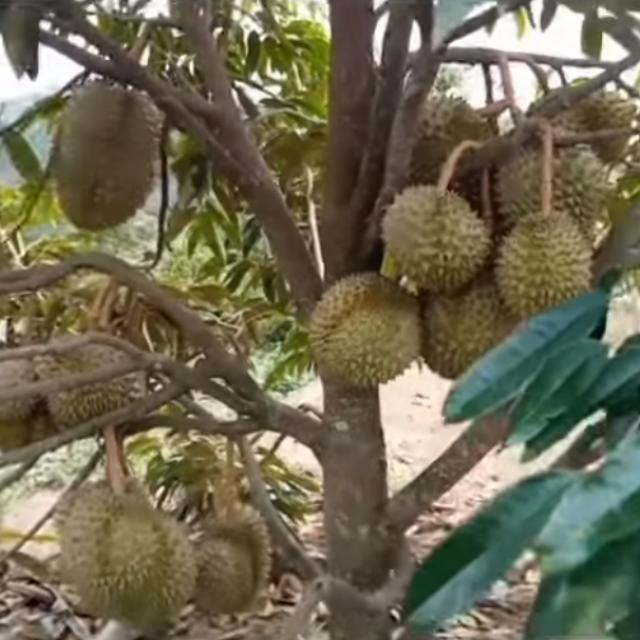mature: (55, 479, 201, 634), (49, 84, 164, 242), (371, 180, 492, 300), (307, 264, 422, 386), (489, 205, 590, 318)
